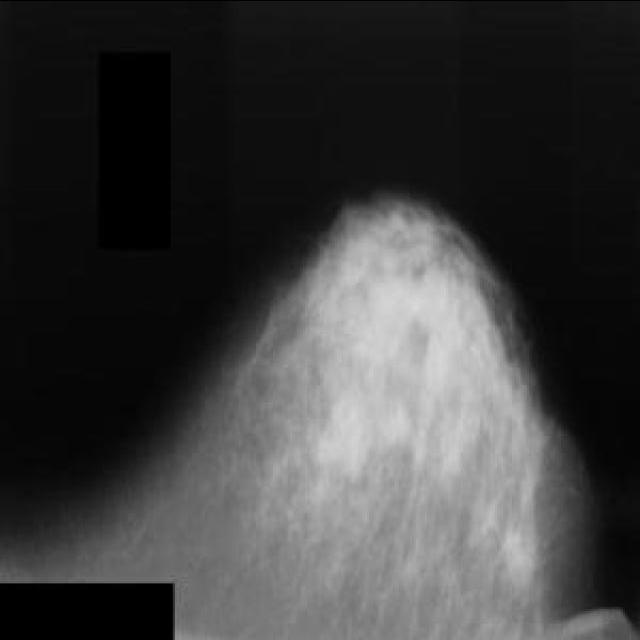tumor: (280, 222, 484, 484)
